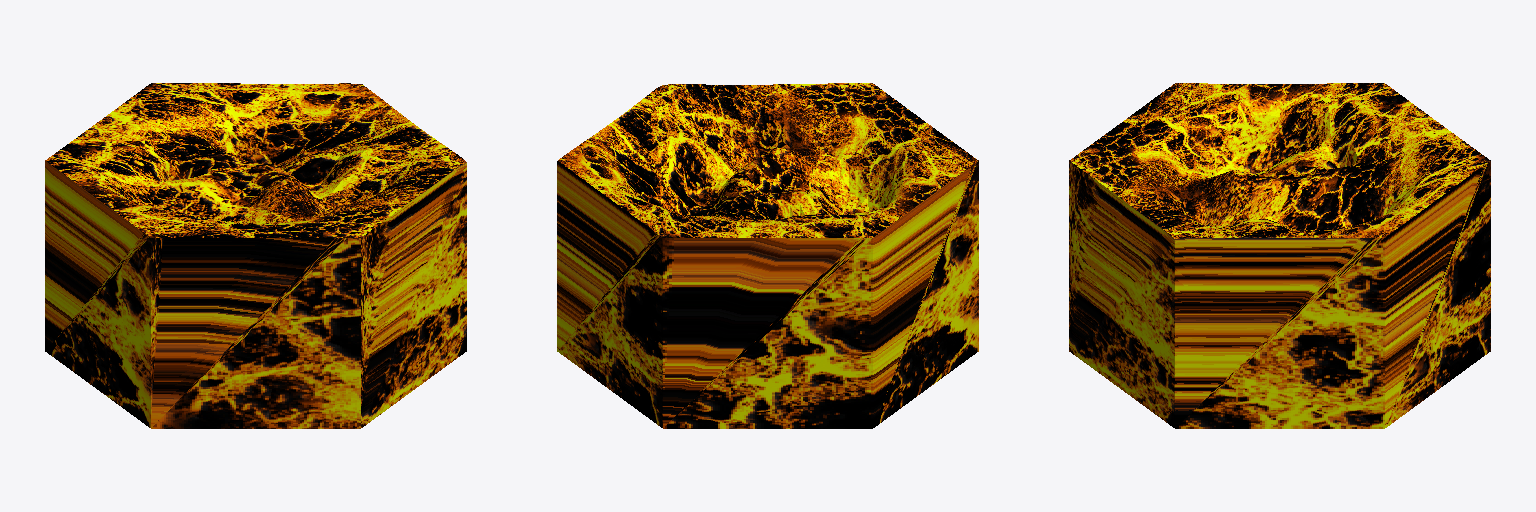
The picture shows the model from 3 angles: view 1: azimuth 30°, elevation 25°; view 2: azimuth 150°, elevation 25°; view 3: azimuth 270°, elevation 25°; orthographic projection.
Parts seen in each view (by area): view 1: lava_Circle; view 2: lava_Circle; view 3: lava_Circle.
Boxes of the visible parts, <box> form: lava_Circle: <box>45,83,466,428</box>; lava_Circle: <box>557,83,978,428</box>; lava_Circle: <box>1069,83,1490,428</box>.
Bounding box in the file's own units: 1.73 × 1 × 2.
1 materials, 1 textured.